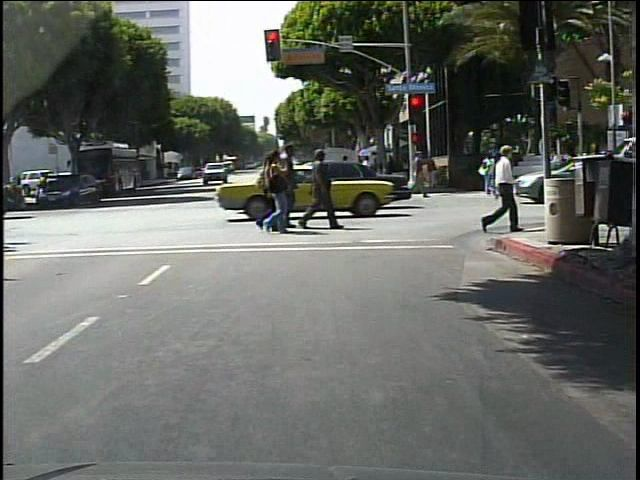person: (480, 139, 523, 238)
